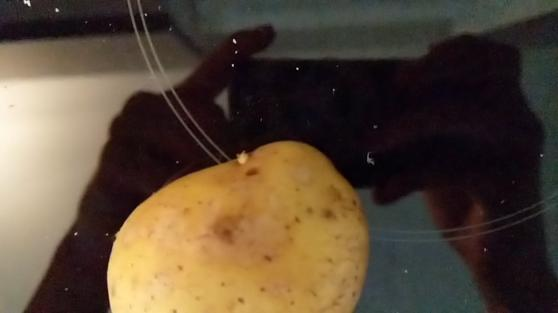potato: (109, 138, 369, 313)
